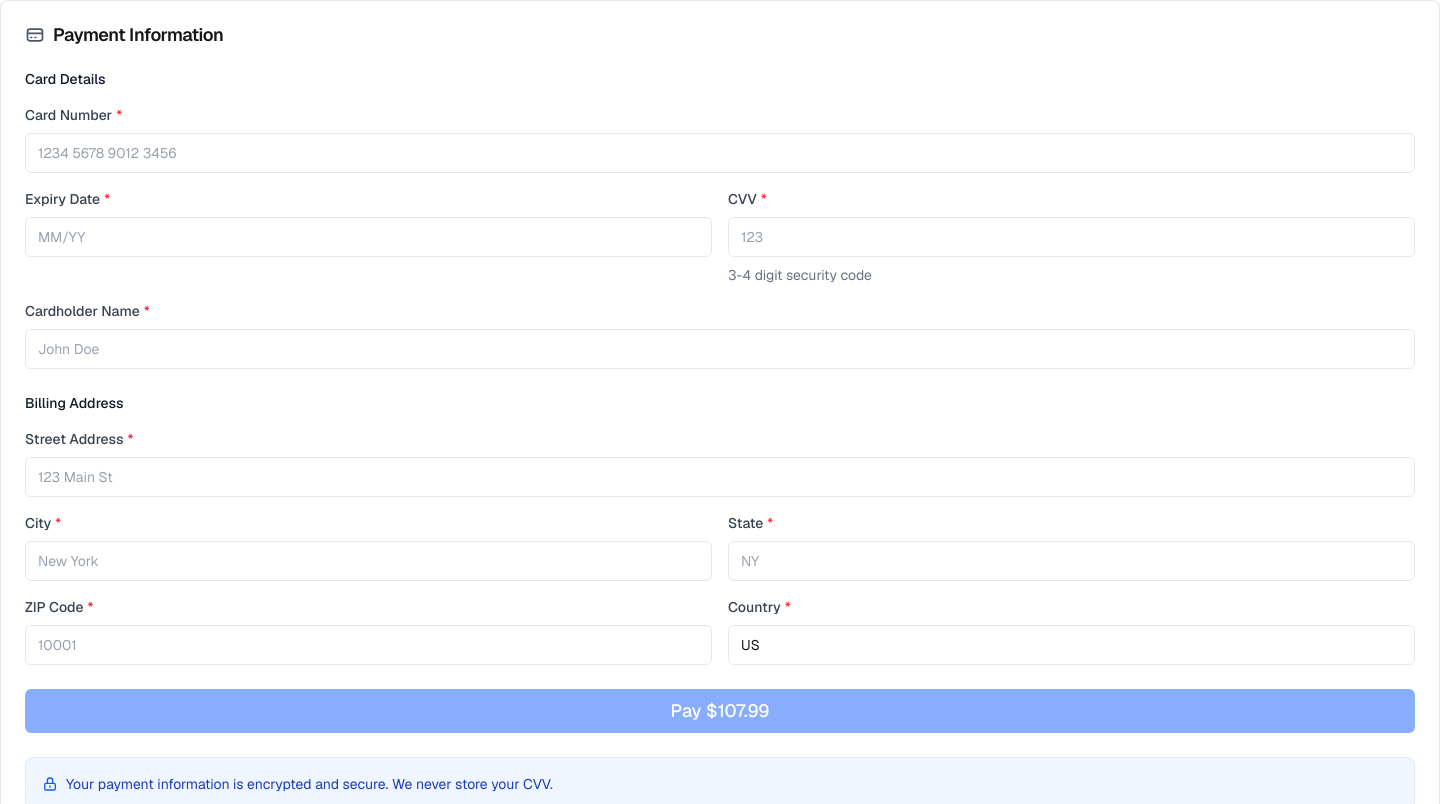
Test: PaymentForm Component › Card Type Detection › should detect and display Visa card type
The width and height of the screenshot is (1440, 804).
Step 1. Type "4532" into the field labelled "Card Number*" → (720, 153), box x1=25 y1=133 x2=1415 y2=173
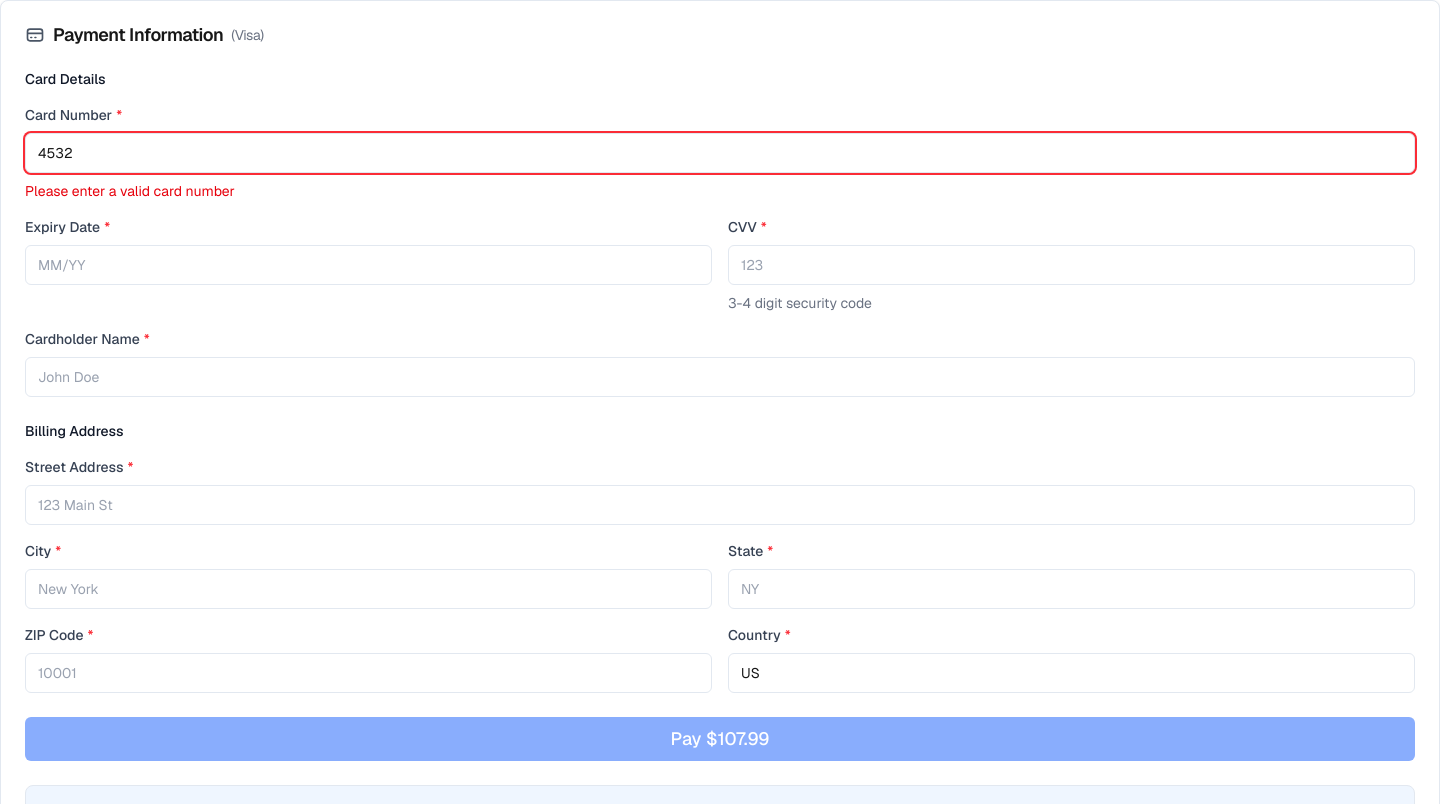
expect the text "(Visa)" is shown: met, box x1=231 y1=25 x2=264 y2=45
